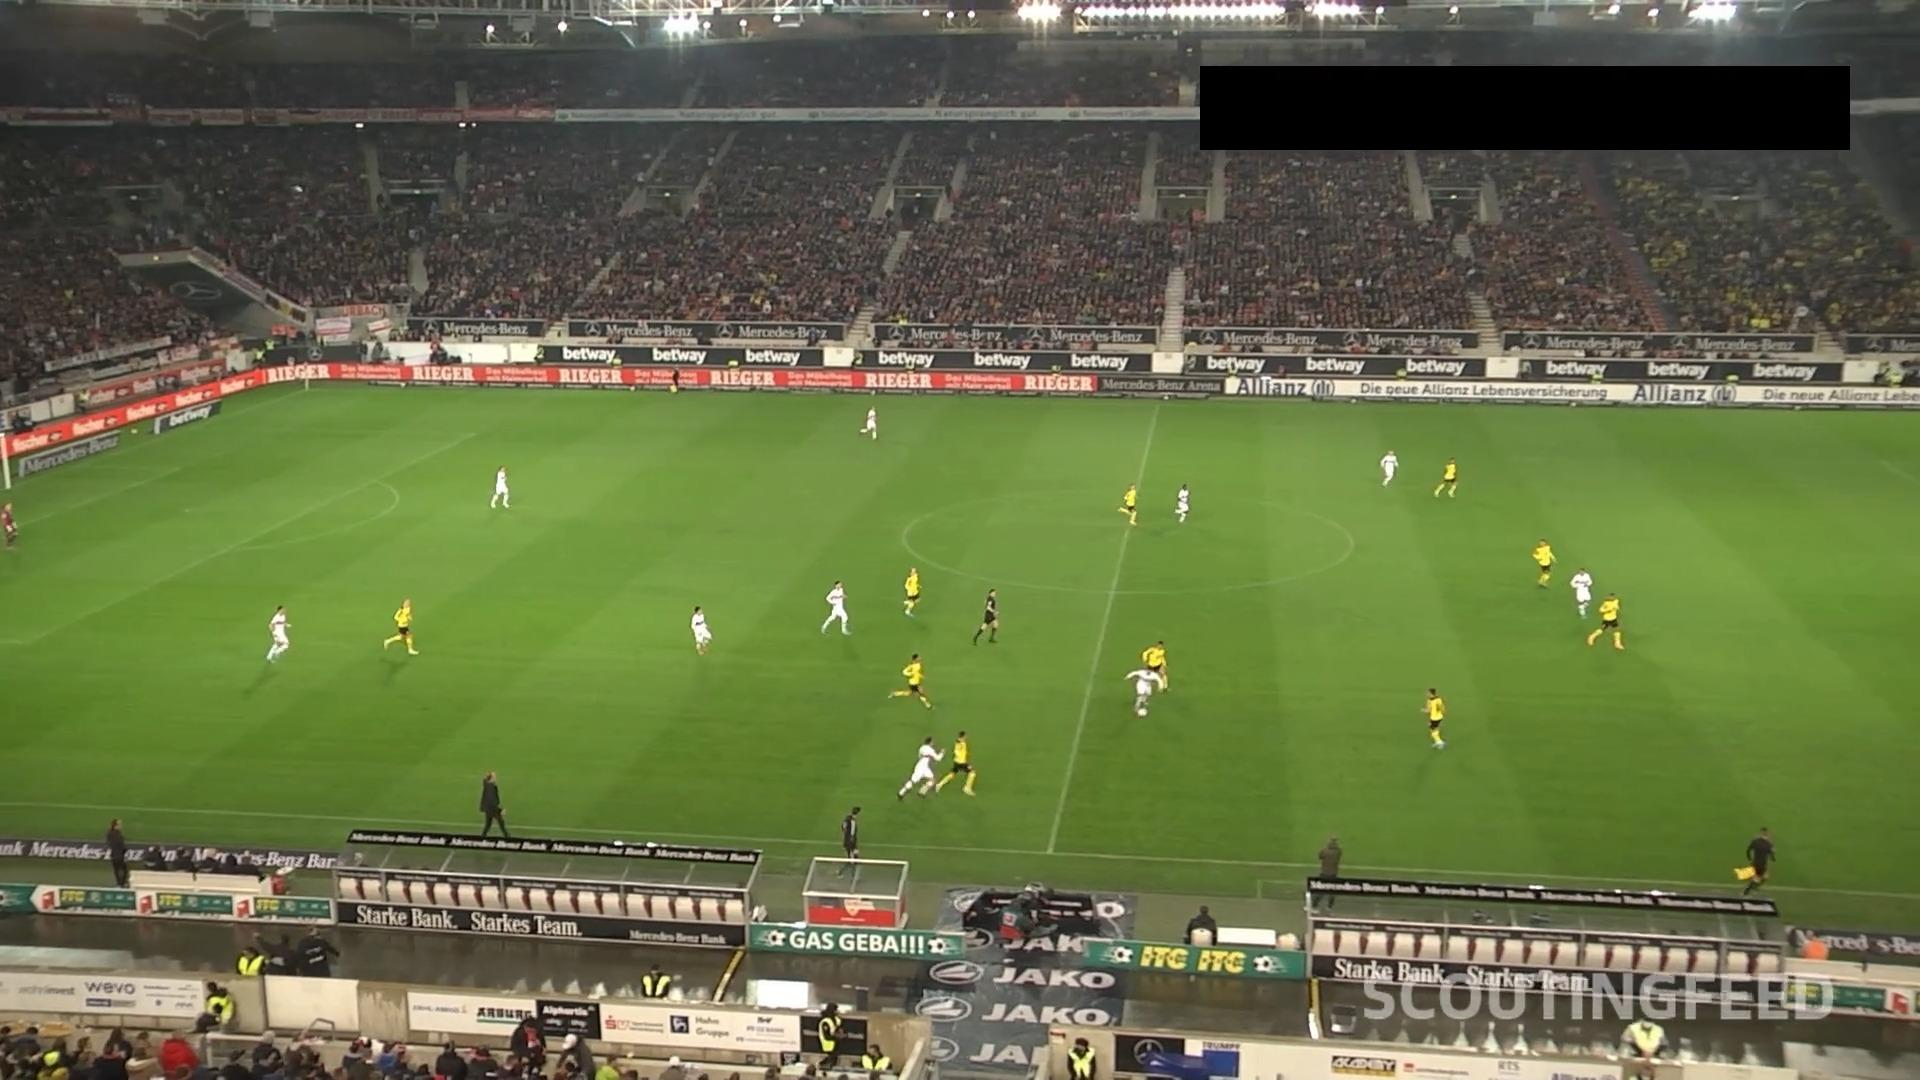ball: (1138, 707, 1149, 717)
